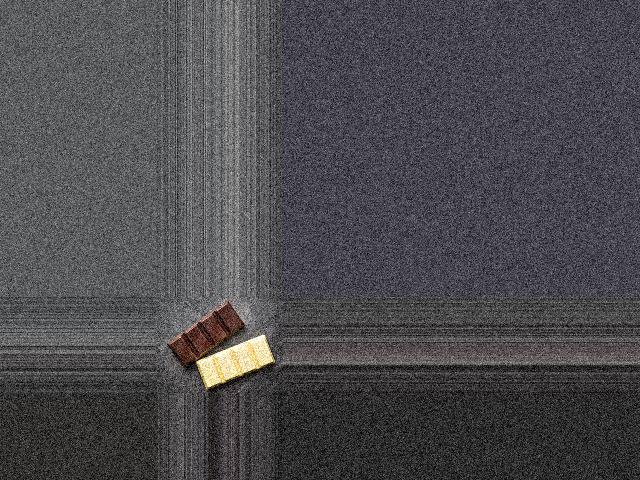chocolate: (168, 303, 279, 388)
